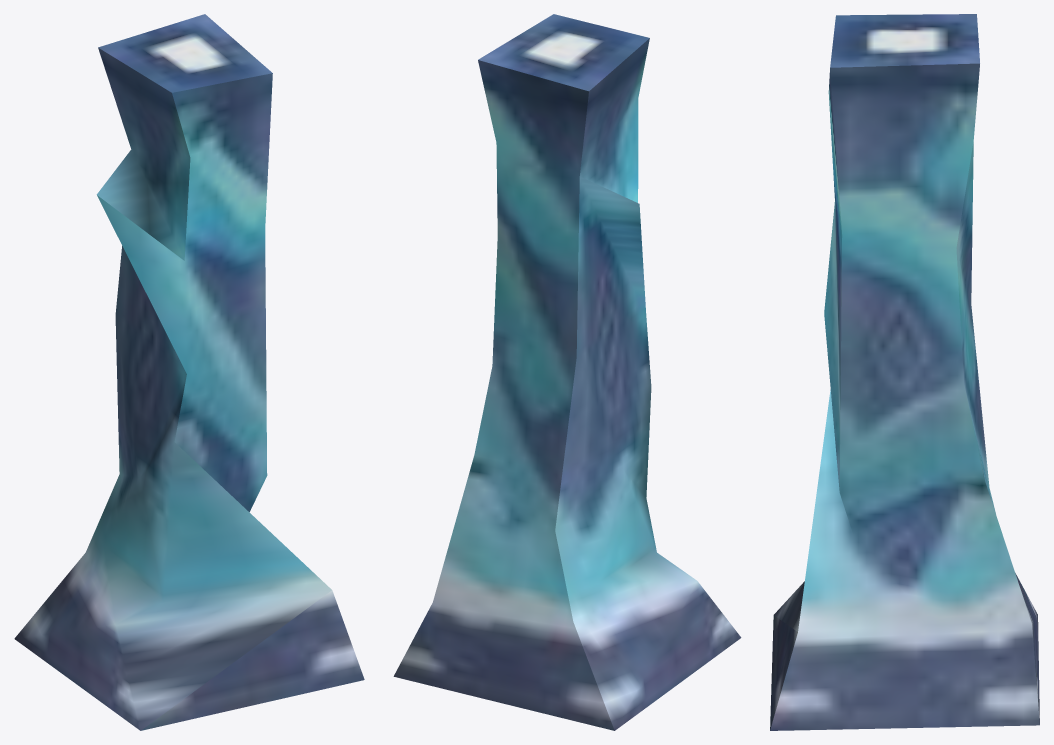
The model's file is b_givre_pilier_lod2.glb.
The picture shows the model from 3 angles, left to right: view 1: azimuth 30°, elevation 25°; view 2: azimuth 150°, elevation 25°; view 3: azimuth 270°, elevation 25°; orthographic projection. The views are drawn at different scales.
Parts seen in each view (by area): view 1: geometry_0; view 2: geometry_0; view 3: geometry_0.
Part boxes in pixels (left/top/right/bottom): geometry_0: left=14, top=14, right=364, bottom=730; geometry_0: left=393, top=14, right=741, bottom=730; geometry_0: left=770, top=14, right=1039, bottom=730.
Size of the model in its own units: 1 by 2.6 by 1.
Materials: 1 (1 with a texture image).
